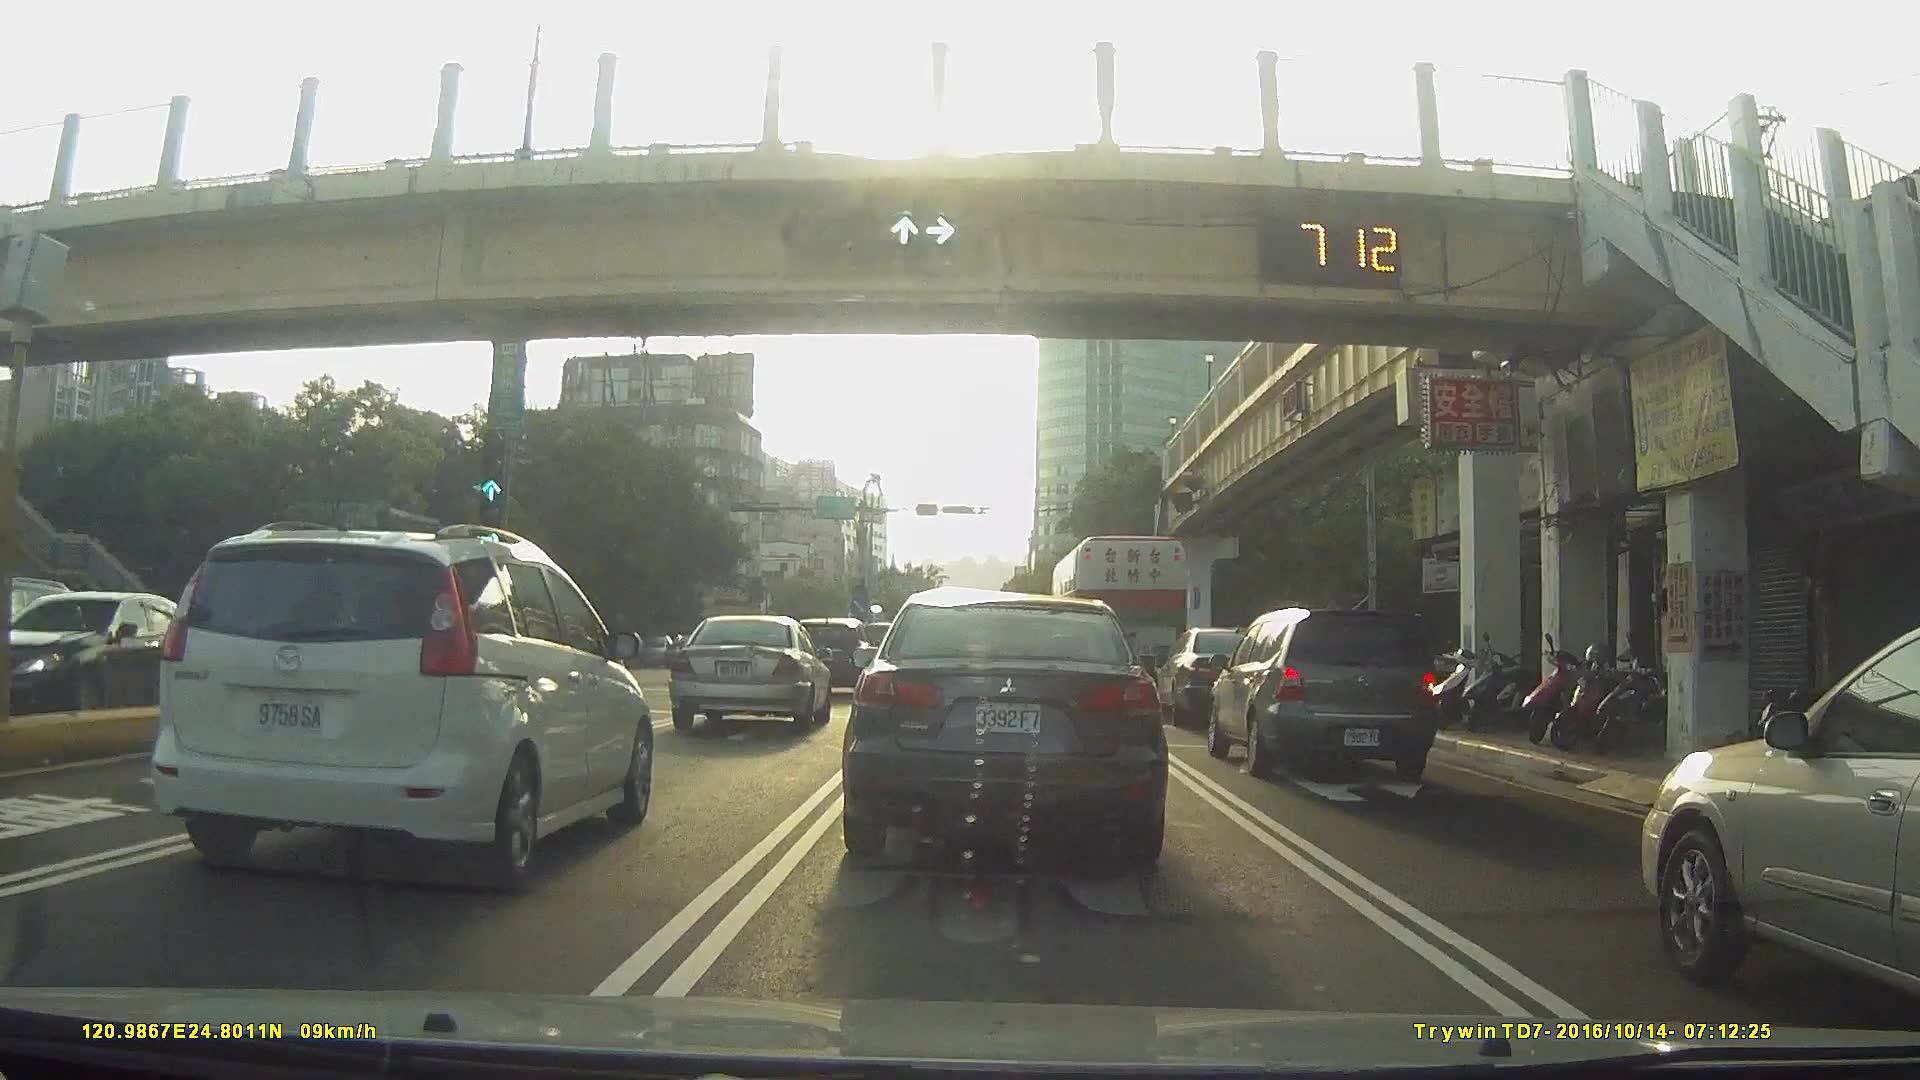vehicle: (142, 518, 655, 884), (1638, 624, 1920, 1001), (843, 584, 1163, 874), (1204, 605, 1437, 789), (3, 592, 231, 725), (1050, 535, 1200, 694), (667, 613, 829, 732), (1156, 624, 1280, 727), (791, 615, 874, 694), (632, 632, 680, 670)
